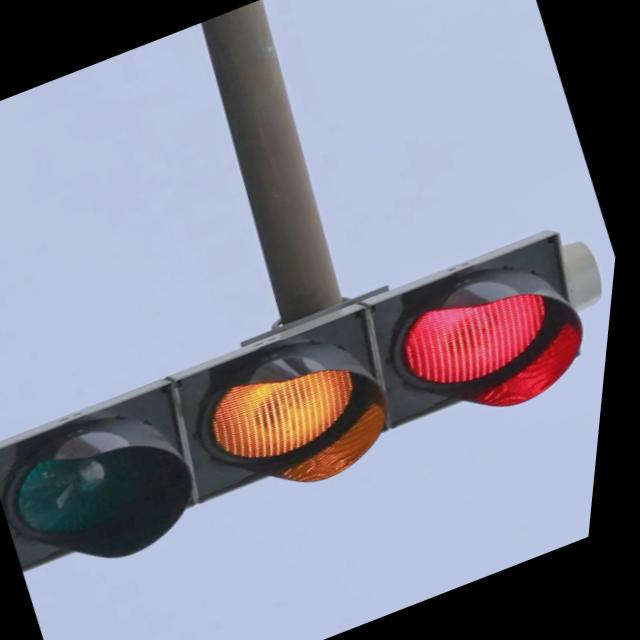Kuning: (201, 339, 383, 478)
Merah: (391, 264, 577, 404)
